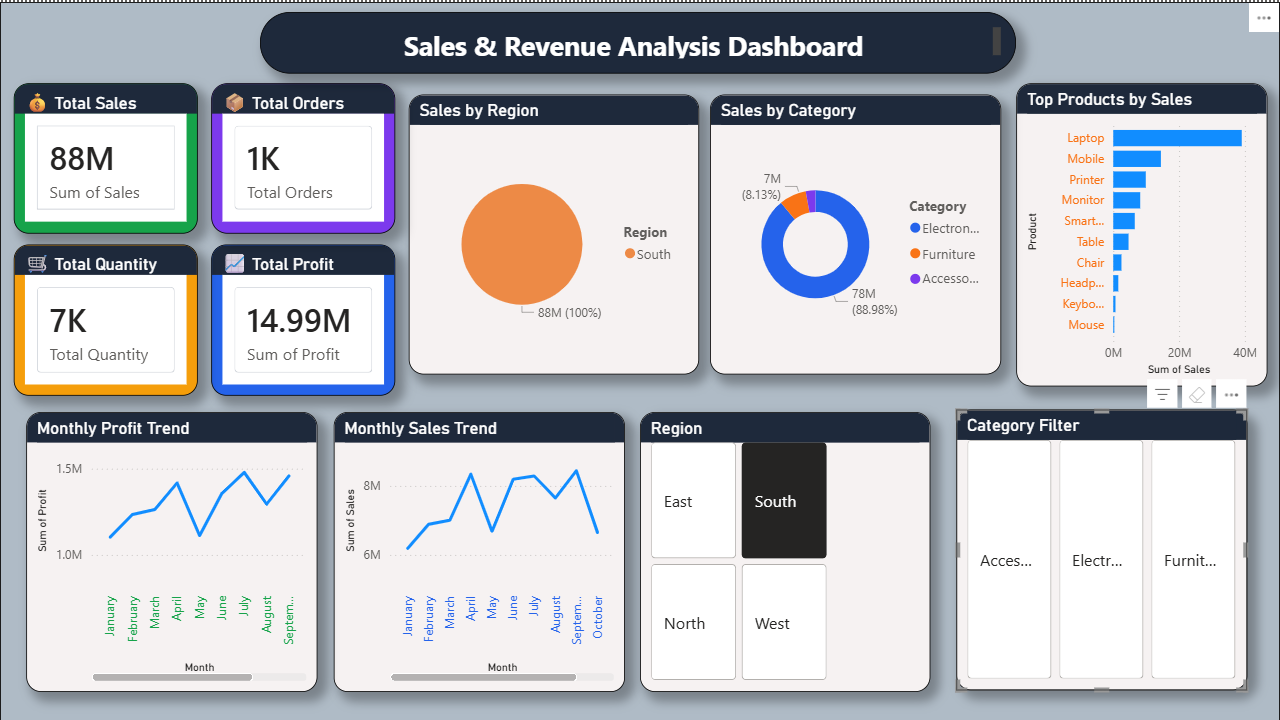

Layout of this report page (visuals, bound fields, positions):
{"tool":"powerbi","page":{"name":"Page 1","canvas":[1280,720],"ordinal":0},"visuals":[{"type":"shape","box":[0,0,1280,720],"z":0},{"type":"cardVisual","title":"💰 Total Sales","fields":{"Data":["Sum(sales_data_5000_rows.Sales)","Sum(sales_data_5000_rows.Sales)"]},"box":[14.3,71.4,184.3,150],"z":1000},{"type":"cardVisual","title":"📈 Total Profit","fields":{"Data":["Sum(sales_data_5000_rows.Profit)"]},"box":[210,232.9,184.3,151.4],"z":2000},{"type":"clusteredBarChart","title":"Top Products by Sales","fields":{"Category":["sales_data_5000_rows.Product"],"Y":["Sum(sales_data_5000_rows.Sales)"]},"box":[1015.7,81.4,251.4,302.9],"z":3000},{"type":"pieChart","title":"Sales by Region","fields":{"Category":["sales_data_5000_rows.Region"],"Y":["Sum(sales_data_5000_rows.Sales)"]},"box":[961.4,408.6,291.4,280],"z":4000},{"type":"donutChart","title":"Sales by Category","fields":{"Category":["sales_data_5000_rows.Category"],"Y":["Sum(sales_data_5000_rows.Sales)"]},"box":[27.1,408.6,291.4,280],"z":5000},{"type":"lineChart","title":"Monthly Sales Trend","fields":{"Category":["sales_data_5000_rows.Order_Date.Variation.Date Hierarchy.Month"],"Y":["Sum(sales_data_5000_rows.Sales)"]},"box":[408.6,92.9,291.4,280],"z":6000},{"type":"advancedSlicerVisual","title":"Category Filter","fields":{"Values":["sales_data_5000_rows.Category"]},"box":[650,408.6,291.4,280],"z":7000},{"type":"advancedSlicerVisual","fields":{"Values":["sales_data_5000_rows.Region"]},"box":[337.1,408.6,291.4,280],"z":8000},{"type":"lineChart","title":"Monthly Profit Trend","fields":{"Category":["sales_data_5000_rows.Order_Date.Variation.Date Hierarchy.Month"],"Y":["Sum(sales_data_5000_rows.Profit)"]},"box":[710,92.9,291.4,280],"z":9000},{"type":"cardVisual","title":"📦 Total Orders","fields":{"Data":["sales_data_5000_rows.Total Orders"]},"box":[211.4,71.4,184.3,150],"z":10000},{"type":"cardVisual","title":"🛒 Total Quantity","fields":{"Data":["sales_data_5000_rows.Total Quantity"]},"box":[14.3,232.9,184.3,151.4],"z":11000},{"type":"textbox","title":"Sales & Revenue Analysis Dashboard","box":[287.4,10,743.9,42.3],"z":12000}]}

Visuals, with their boxes in screenshot pixels (x1, y1, x2, y2), scaled from the page's 1280x720 canvas onto the 1280x720 screenshot:
shape: BBox(0, 0, 1279, 719)
"💰 Total Sales" cardVisual: BBox(14, 71, 199, 221)
"📈 Total Profit" cardVisual: BBox(210, 233, 394, 384)
"Top Products by Sales" clusteredBarChart: BBox(1016, 81, 1267, 384)
"Sales by Region" pieChart: BBox(961, 409, 1253, 689)
"Sales by Category" donutChart: BBox(27, 409, 318, 689)
"Monthly Sales Trend" lineChart: BBox(409, 93, 700, 373)
"Category Filter" advancedSlicerVisual: BBox(650, 409, 941, 689)
advancedSlicerVisual - sales_data_5000_rows.Region: BBox(337, 409, 628, 689)
"Monthly Profit Trend" lineChart: BBox(710, 93, 1001, 373)
"📦 Total Orders" cardVisual: BBox(211, 71, 396, 221)
"🛒 Total Quantity" cardVisual: BBox(14, 233, 199, 384)
"Sales & Revenue Analysis Dashboard" textbox: BBox(287, 10, 1031, 52)
